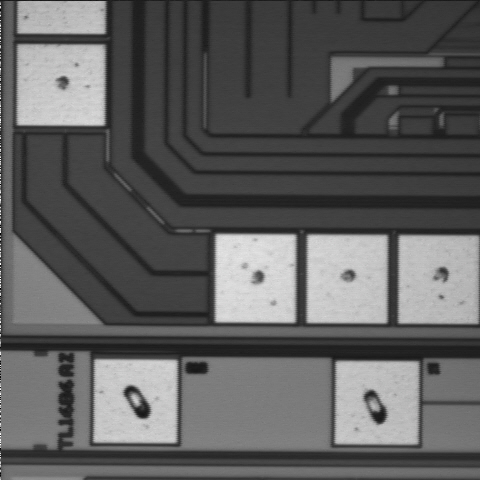pad: (308, 235, 387, 323), (94, 360, 177, 443), (18, 45, 104, 125), (216, 235, 295, 322), (399, 236, 478, 323), (336, 362, 418, 444)
